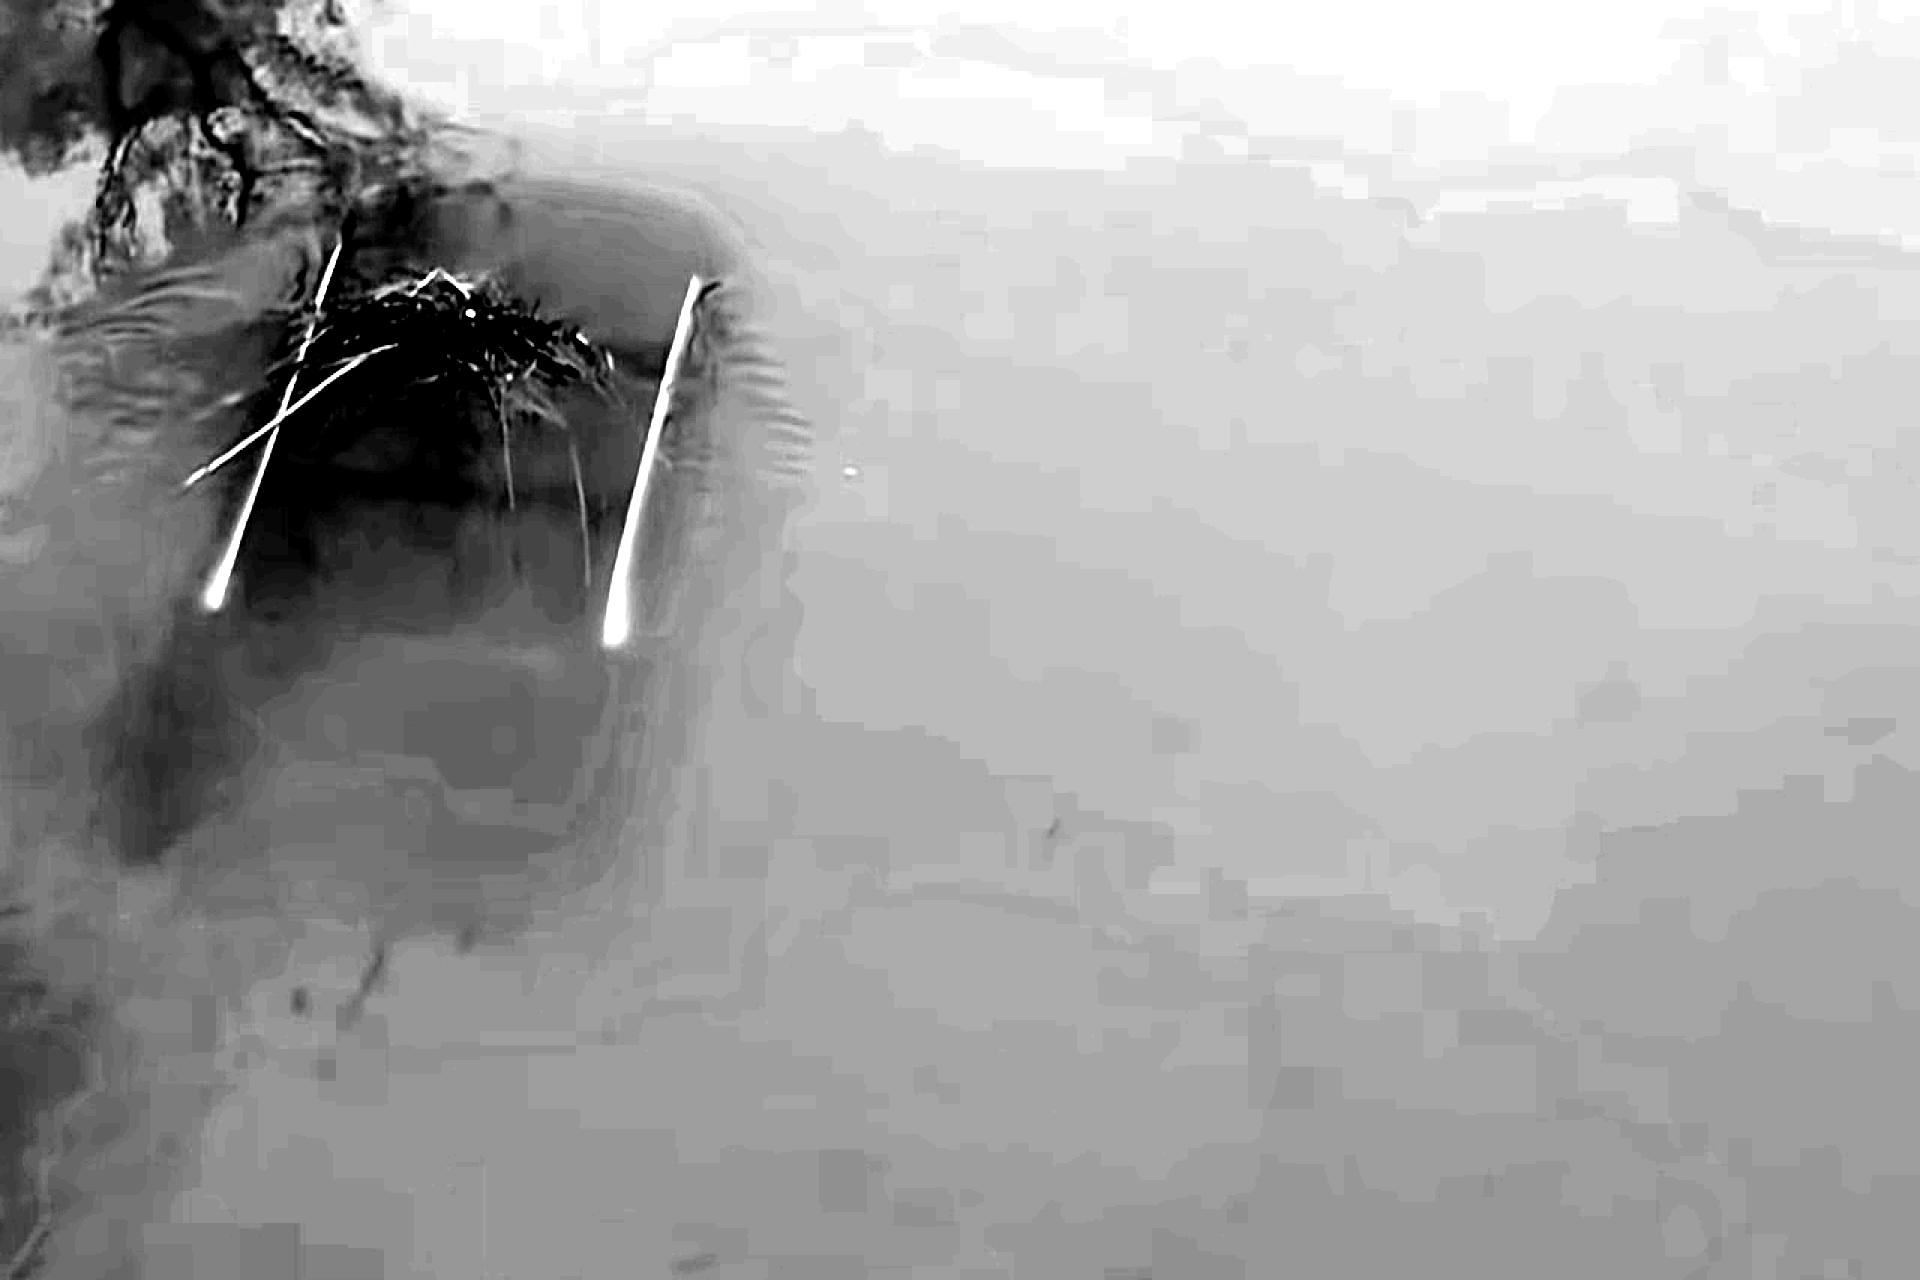Vehicle: (137, 146, 741, 929)
